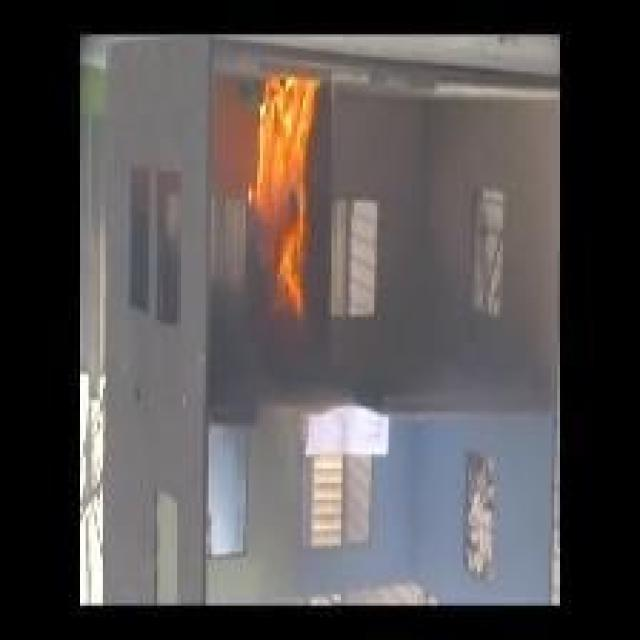fire: (235, 54, 332, 323)
